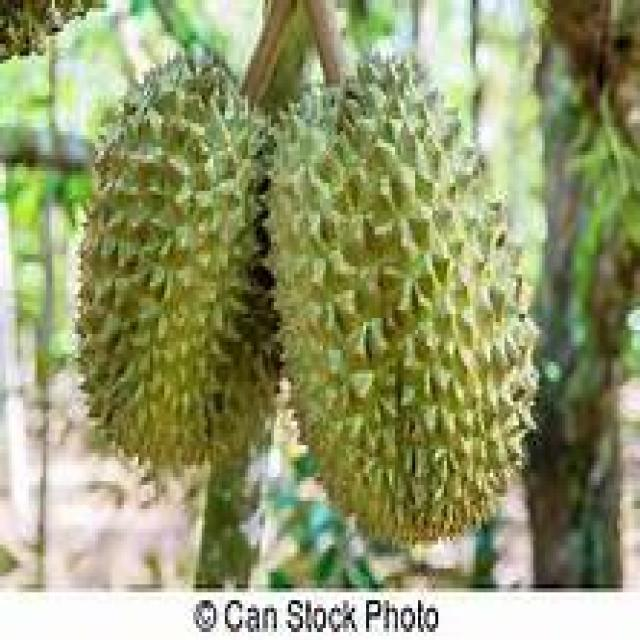immature: (262, 44, 542, 548), (78, 48, 275, 470)
